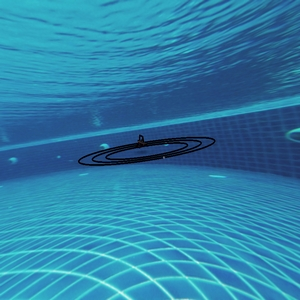circle: (76, 114, 234, 179)
submarine: (137, 137, 148, 149)
